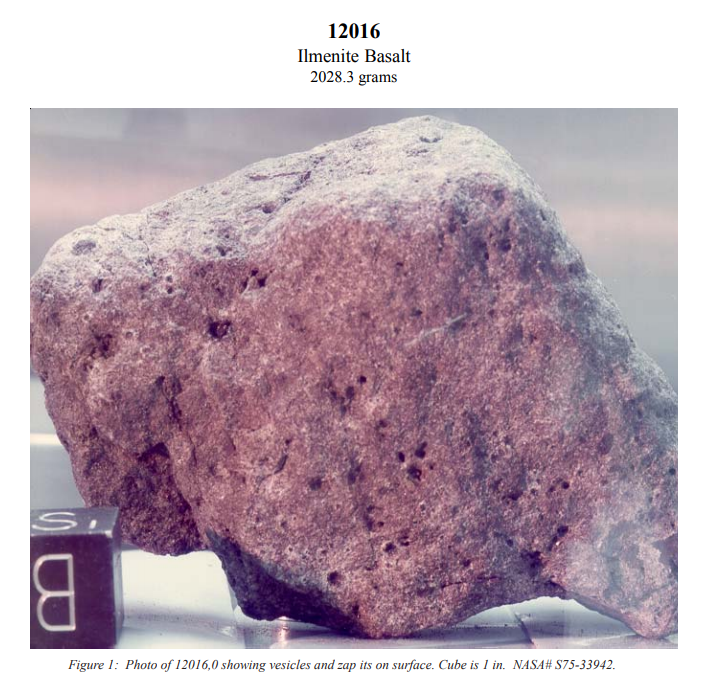Basalt: (66, 157, 687, 623), (246, 242, 618, 581)
